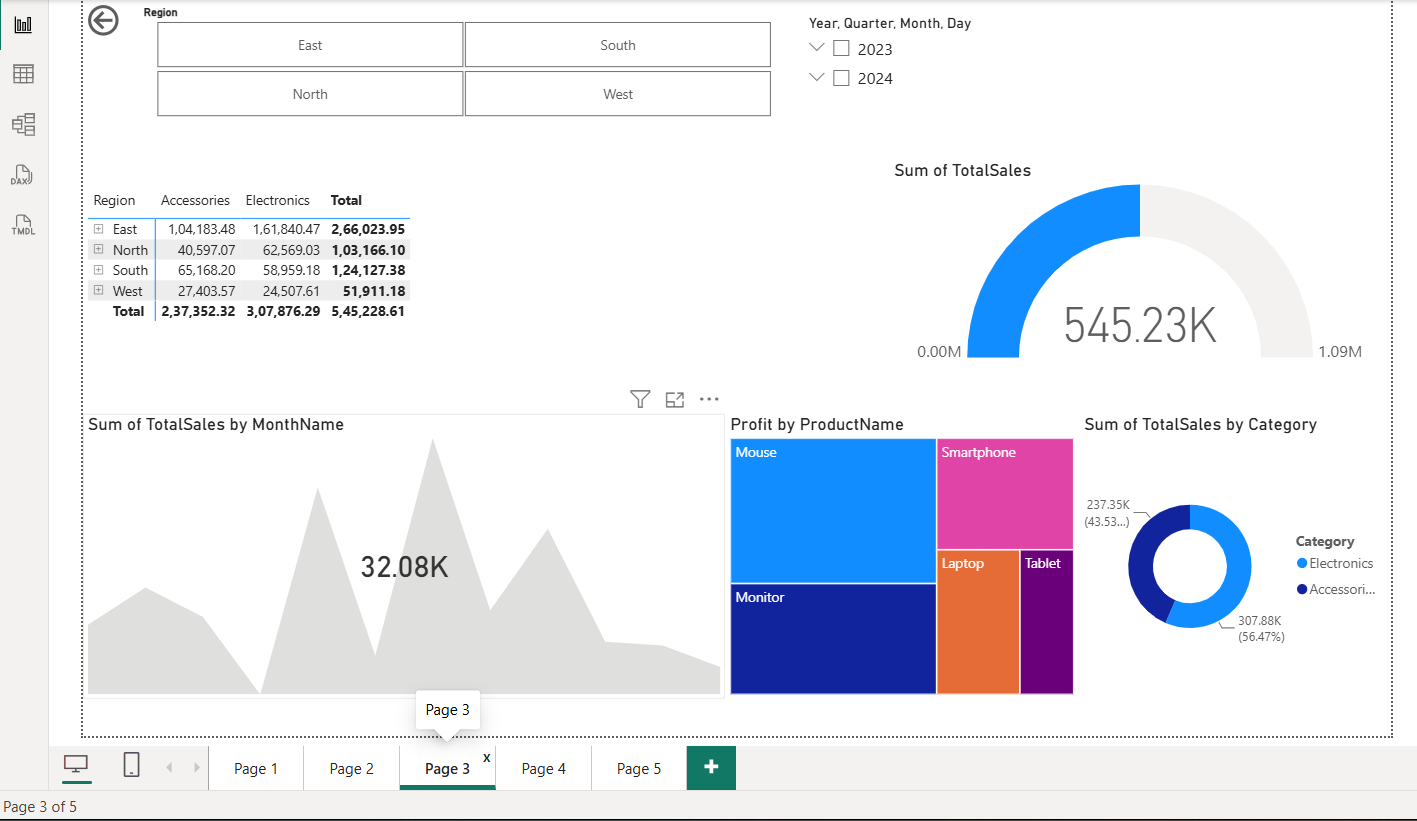

Layout of this report page (visuals, bound fields, positions):
{"tool":"powerbi","page":{"name":"Page 3","canvas":[1280,720],"ordinal":2},"visuals":[{"type":"donutChart","fields":{"Category":["Dim_Products.Category"],"Y":["Sum(Fact_Sales.TotalSales)"]},"box":[974.5,404.2,305.9,279.7],"z":0},{"type":"treemap","fields":{"Group":["Dim_Products.ProductName"],"Values":["Fact_Sales.Profit"]},"box":[628.6,404.2,345.8,279.7],"z":1000},{"type":"kpi","fields":{"TrendLine":["Dim_Date.MonthName"],"Indicator":["Sum(Fact_Sales.TotalSales)"]},"box":[0,404.2,628.6,279.7],"z":2000},{"type":"gauge","fields":{"Y":["Sum(Fact_Sales.TotalSales)"]},"box":[789.1,156,491.1,203.4],"z":3000},{"type":"pivotTable","fields":{"Rows":["Dim_Customers.Region","Dim_Products.ProductName"],"Values":["Sum(Fact_Sales.TotalSales)"],"Columns":["Dim_Products.Category"]},"box":[0,180.3,420.8,179.1],"z":4000},{"type":"slicer","fields":{"Values":["Dim_Date.Year Hierarchy.Year","Dim_Date.Year Hierarchy.Quarter","Dim_Date.Year Hierarchy.Month","Dim_Date.Year Hierarchy.Day"]},"box":[697,9,583.2,111.3],"z":5000},{"type":"slicer","fields":{"Values":["Dim_Customers.Region"]},"box":[46.4,0,650.6,120.6],"z":6000},{"type":"actionButton","box":[0,0,46.4,39.8],"z":7000}]}

Visuals, with their boxes on the page's 1280x720 design canvas (x1, y1, x2, y2). These are canvas units, not pixel positions in the 1417x821 screenshot, which may show the page scaled, cropped or inside an application window:
donutChart - Dim_Products.Category x Sum(Fact_Sales.TotalSales): 974,404,1280,684
treemap - Dim_Products.ProductName x Fact_Sales.Profit: 629,404,974,684
kpi - Dim_Date.MonthName x Sum(Fact_Sales.TotalSales): 0,404,629,684
gauge - Sum(Fact_Sales.TotalSales): 789,156,1280,359
pivotTable - Dim_Customers.Region x Dim_Products.ProductName: 0,180,421,359
slicer - Dim_Date.Year Hierarchy.Year x Dim_Date.Year Hierarchy.Quarter: 697,9,1280,120
slicer - Dim_Customers.Region: 46,0,697,121
actionButton: 0,0,46,40
